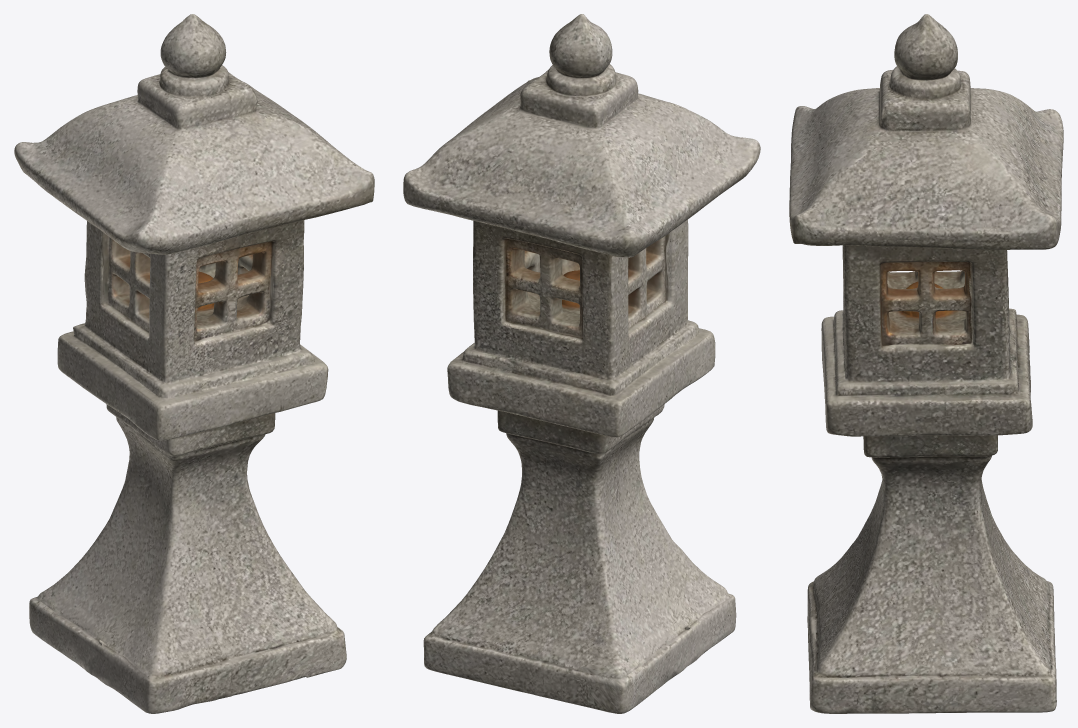
The model's file is arch_lantern.glb.
3 renders of one model, left to right at view 1: azimuth 30°, elevation 25°; view 2: azimuth 150°, elevation 25°; view 3: azimuth 270°, elevation 25°, orthographic. The views are drawn at different scales.
Visible parts, largest first — view 1: tripo_node_8db69446-8dc4-4321-abcd-3c3766bbb29d; view 2: tripo_node_8db69446-8dc4-4321-abcd-3c3766bbb29d; view 3: tripo_node_8db69446-8dc4-4321-abcd-3c3766bbb29d.
Part boxes in pixels (x1,y1,x2,y2): tripo_node_8db69446-8dc4-4321-abcd-3c3766bbb29d: (14,14,374,713); tripo_node_8db69446-8dc4-4321-abcd-3c3766bbb29d: (403,14,760,713); tripo_node_8db69446-8dc4-4321-abcd-3c3766bbb29d: (789,14,1063,713).
Size of the model in its own units: 0.3913 by 0.9781 by 0.374.
Materials: 1 (1 with a texture image).
